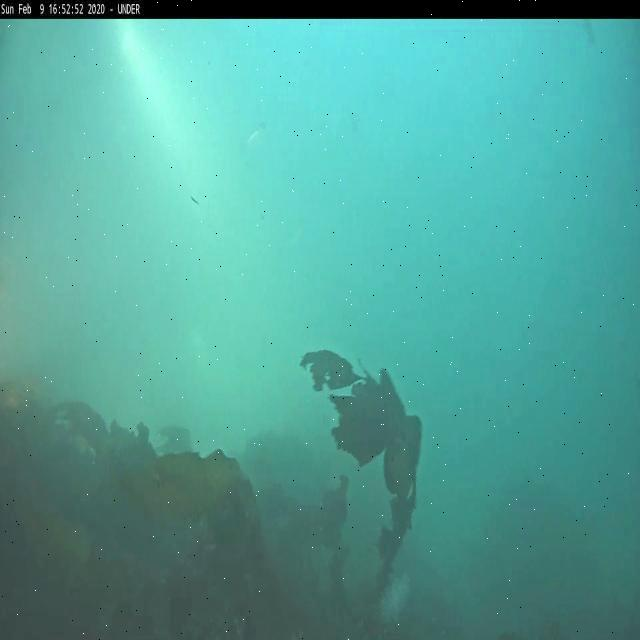fish: (242, 119, 266, 154)
